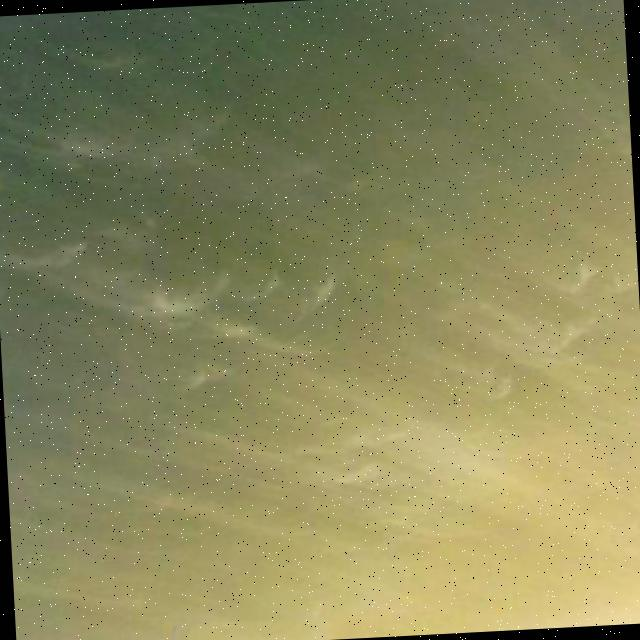Cs: (1, 1, 640, 619)
